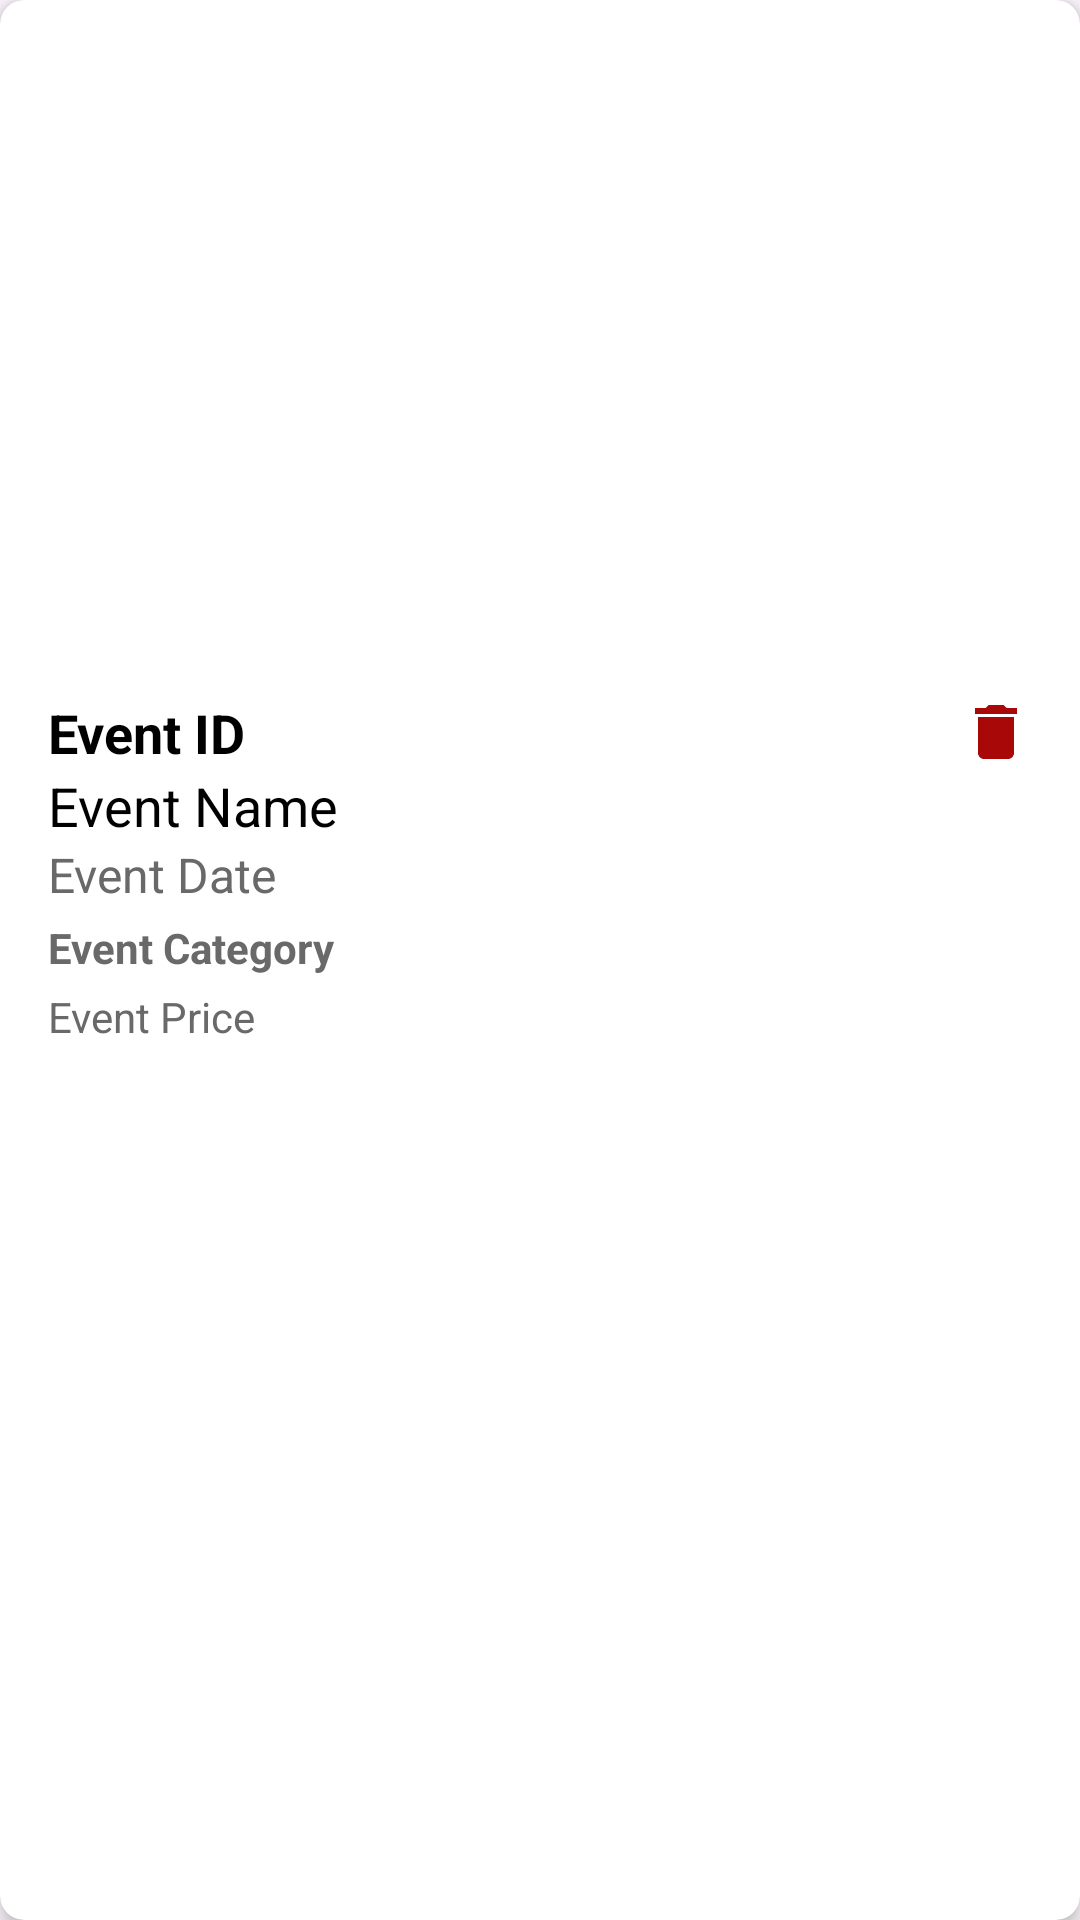

Icons on this 1080px×1920px Android screen, each with the point to tap as [x,y]:
Delete Event: [996,732]
